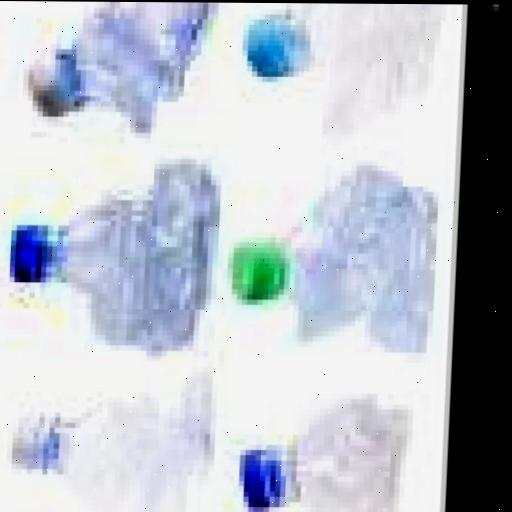bottle: (0, 145, 239, 354), (228, 153, 447, 366), (0, 361, 234, 512), (233, 2, 449, 146), (8, 0, 210, 142), (233, 387, 421, 512)
